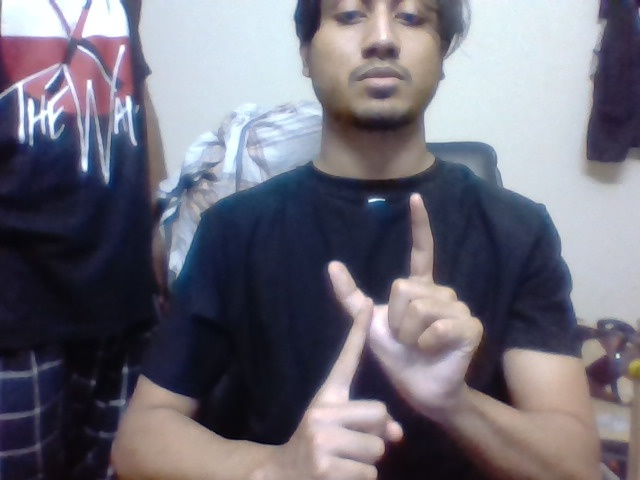Y: (319, 188, 443, 375)
